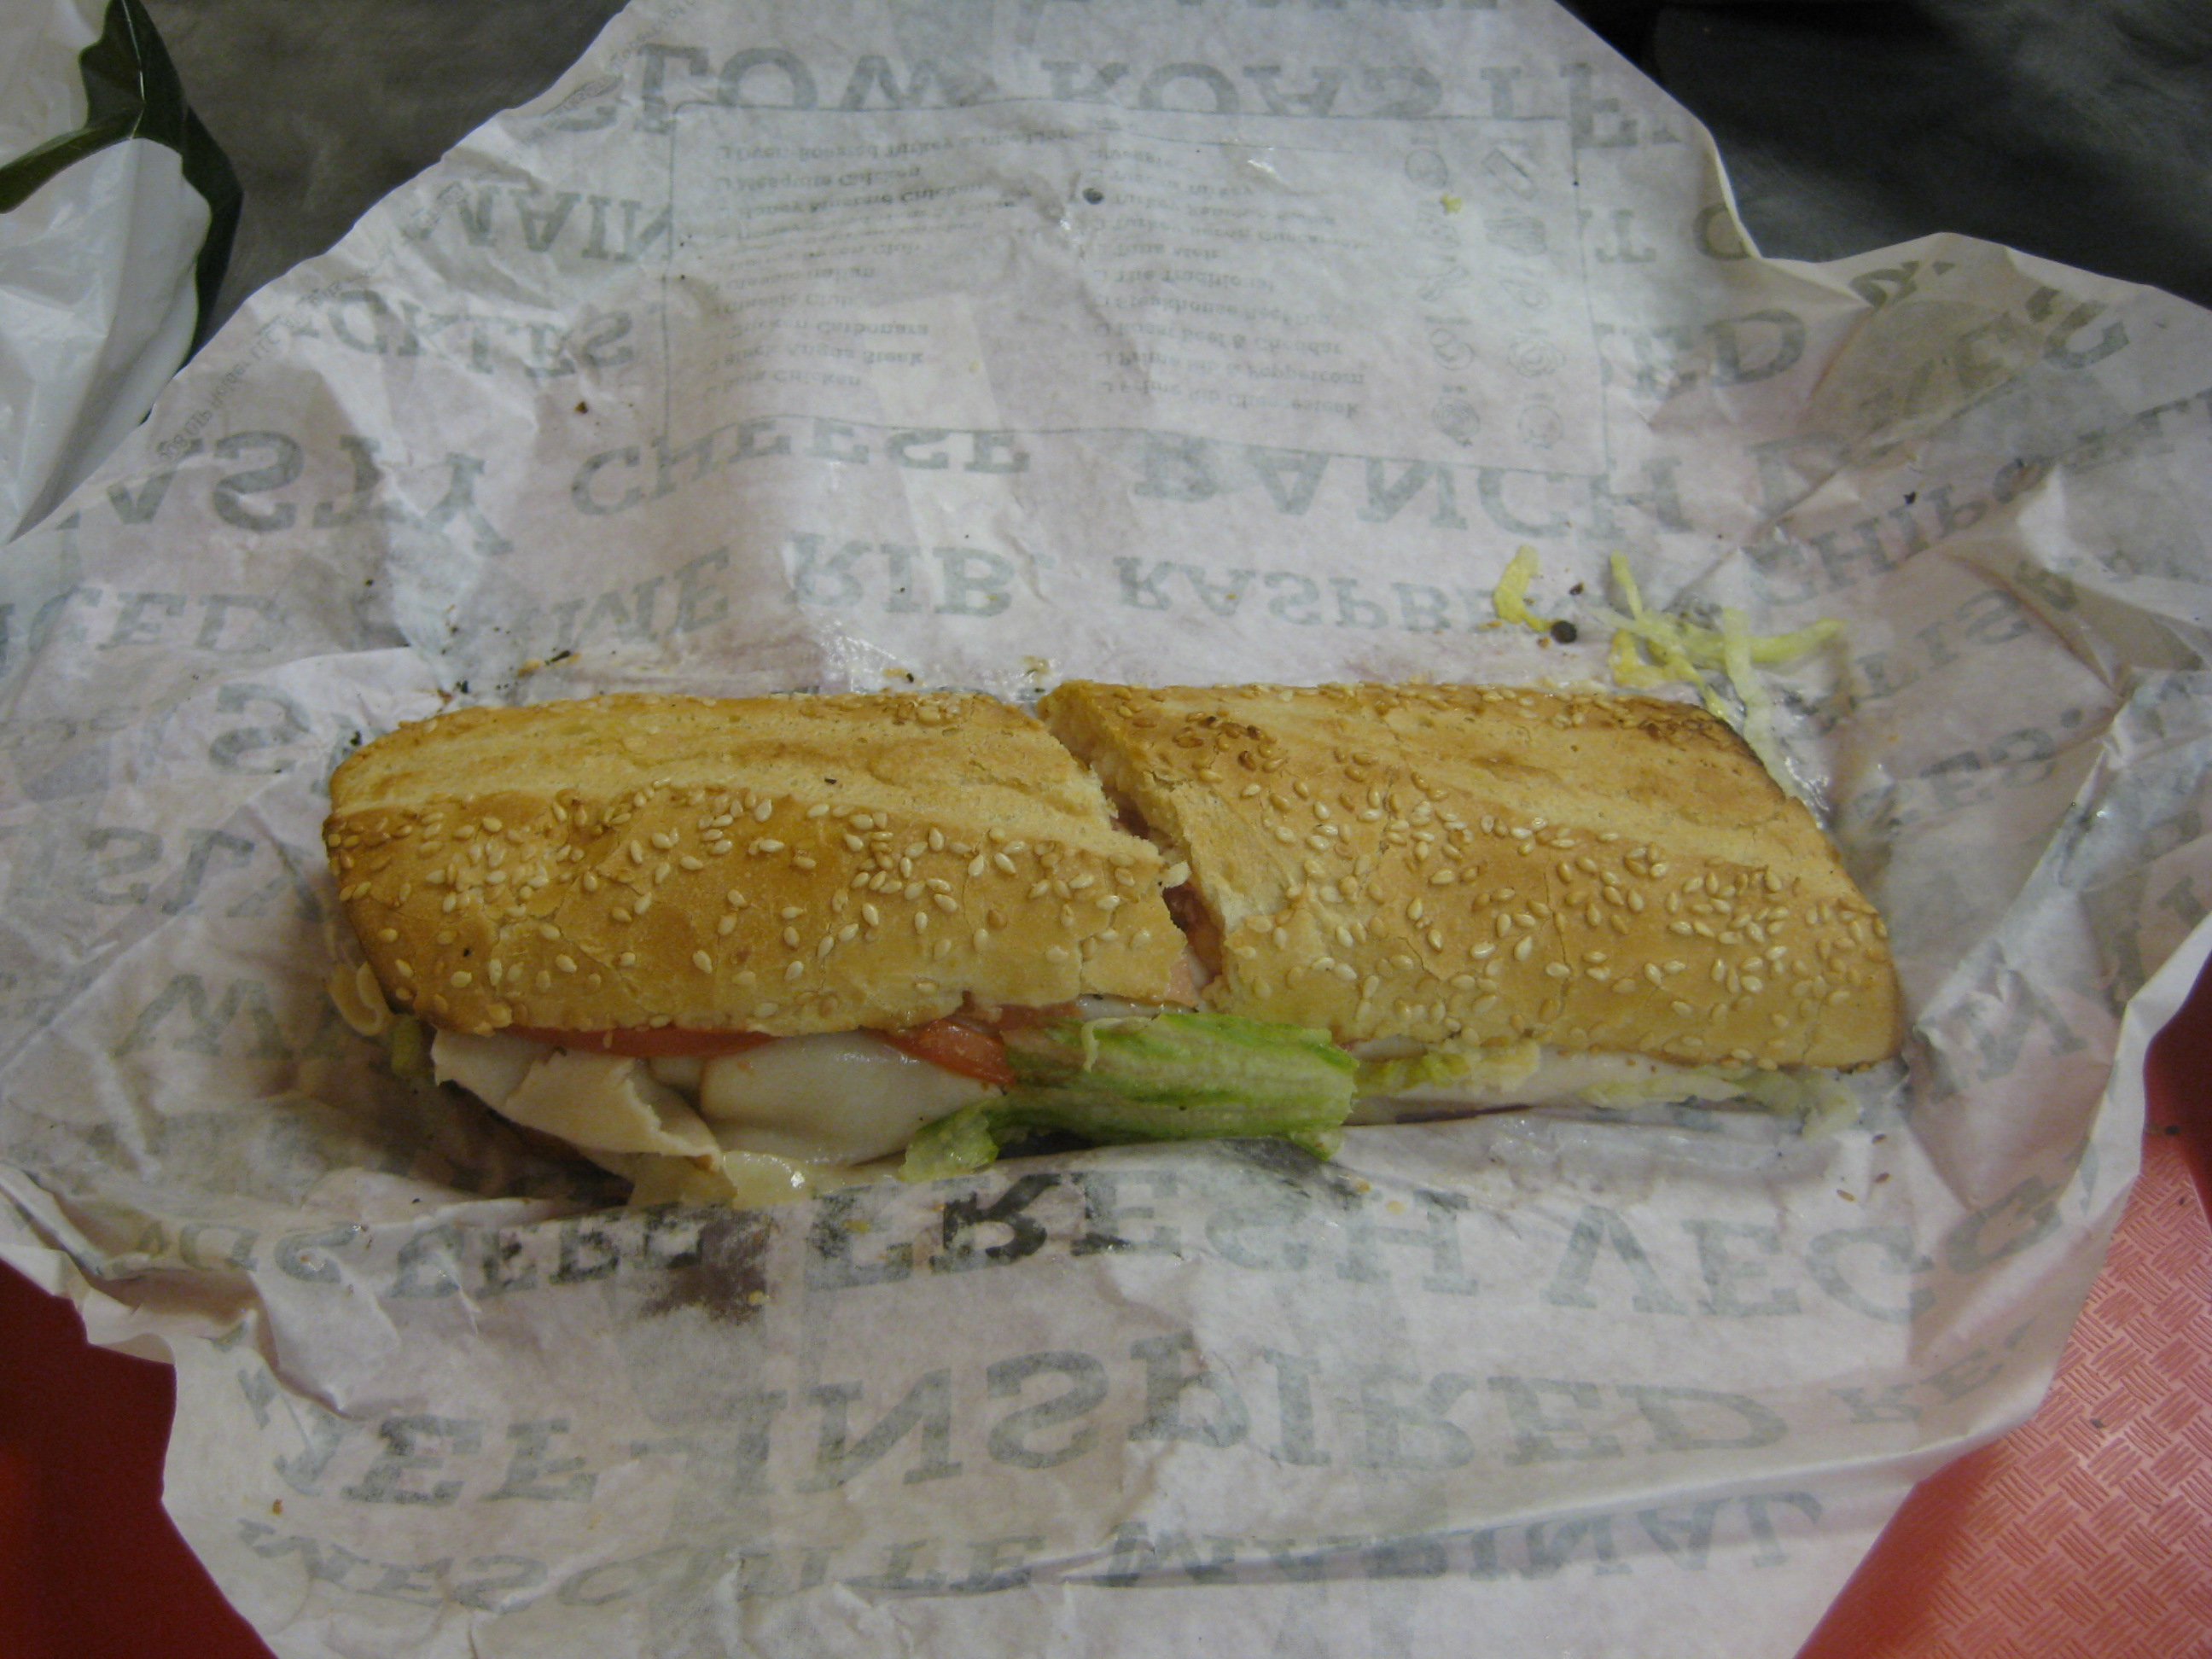sub: (253, 639, 1941, 1160)
